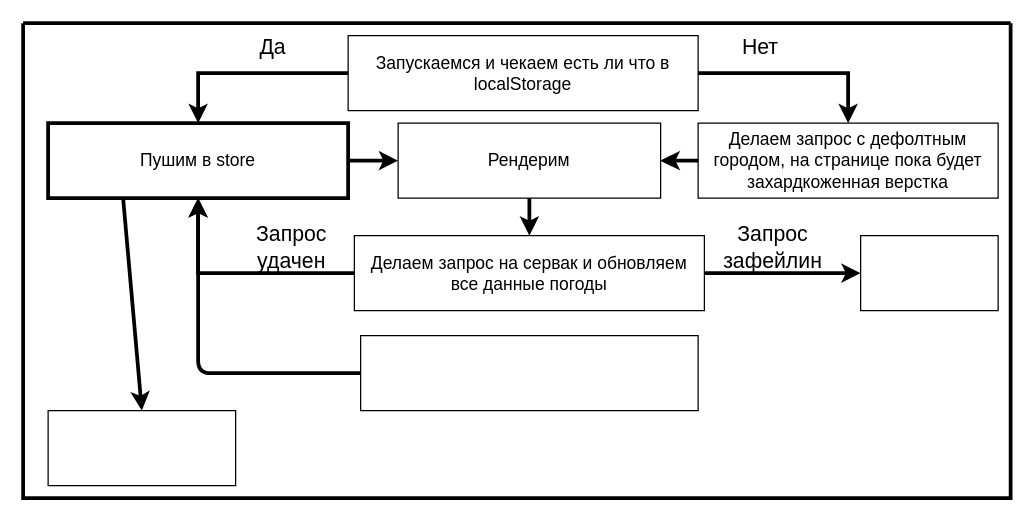
The diagram is 1034 pixels wide and 521 high, and some of its shapes have lost their labels. Here are the shapes that lost their labels. From the top down, the box of each, then its label:
(859, 234, 998, 311): alert('Эпик фейл');
(359, 334, 698, 411): Пользователь дабавил/удалил в/из избранного
(47, 409, 236, 486): Сохраняем в localStorage
